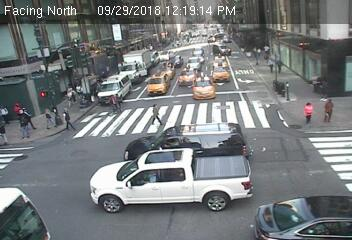car: (89, 149, 252, 211), (123, 121, 247, 160), (252, 194, 352, 239), (1, 186, 51, 240), (97, 72, 133, 102), (120, 51, 148, 79), (191, 72, 216, 100), (148, 73, 169, 97), (212, 61, 229, 80), (178, 68, 197, 84), (212, 41, 232, 55), (145, 48, 160, 64), (187, 56, 202, 71), (159, 65, 174, 76), (170, 53, 182, 65), (212, 54, 225, 62), (191, 47, 204, 55)
